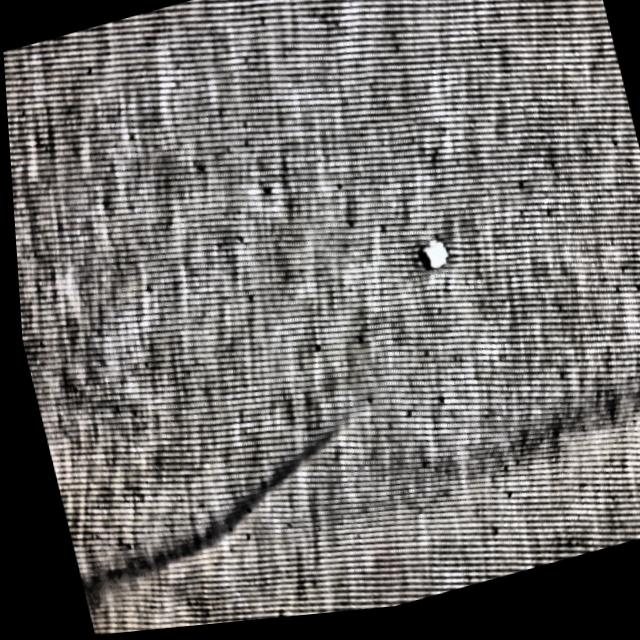Hole: (267, 155, 325, 225), (259, 152, 317, 220)
